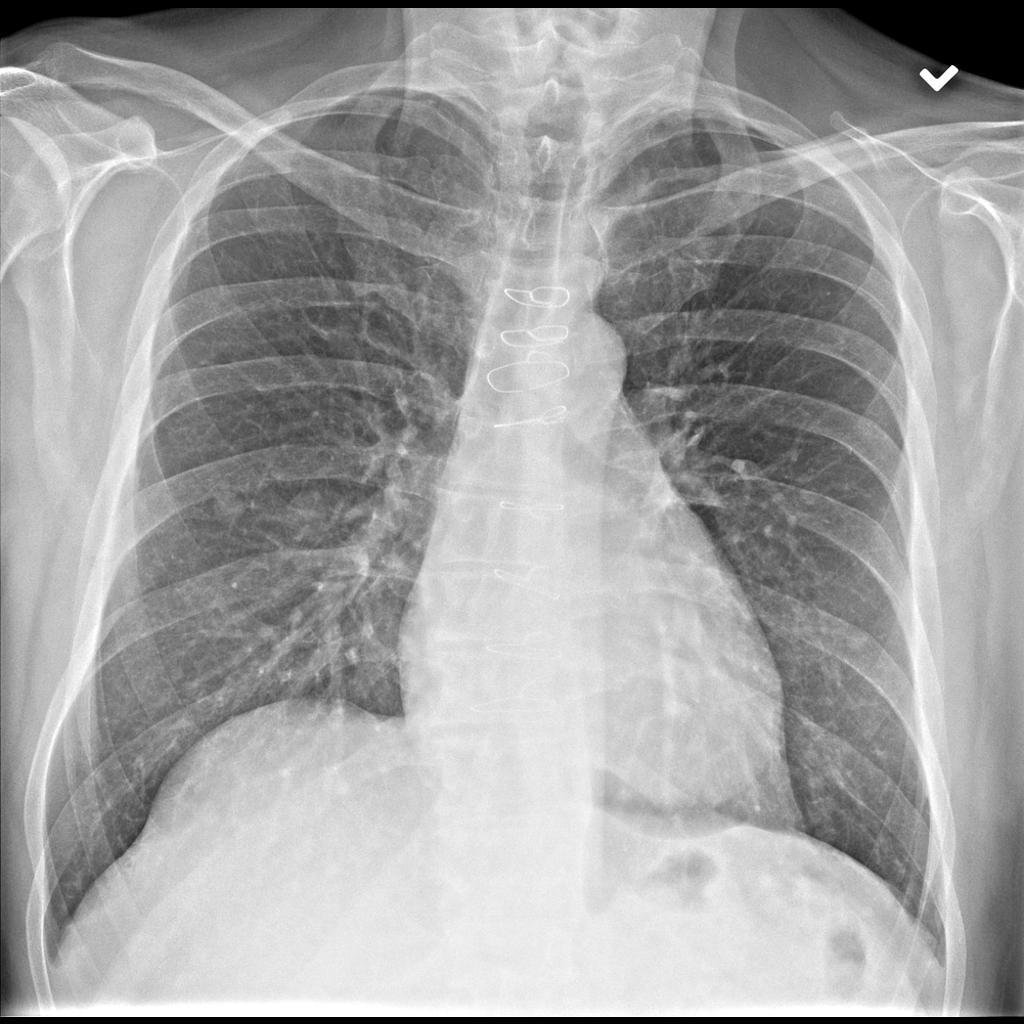Nodule: (284, 483, 338, 546), (208, 483, 255, 532)
